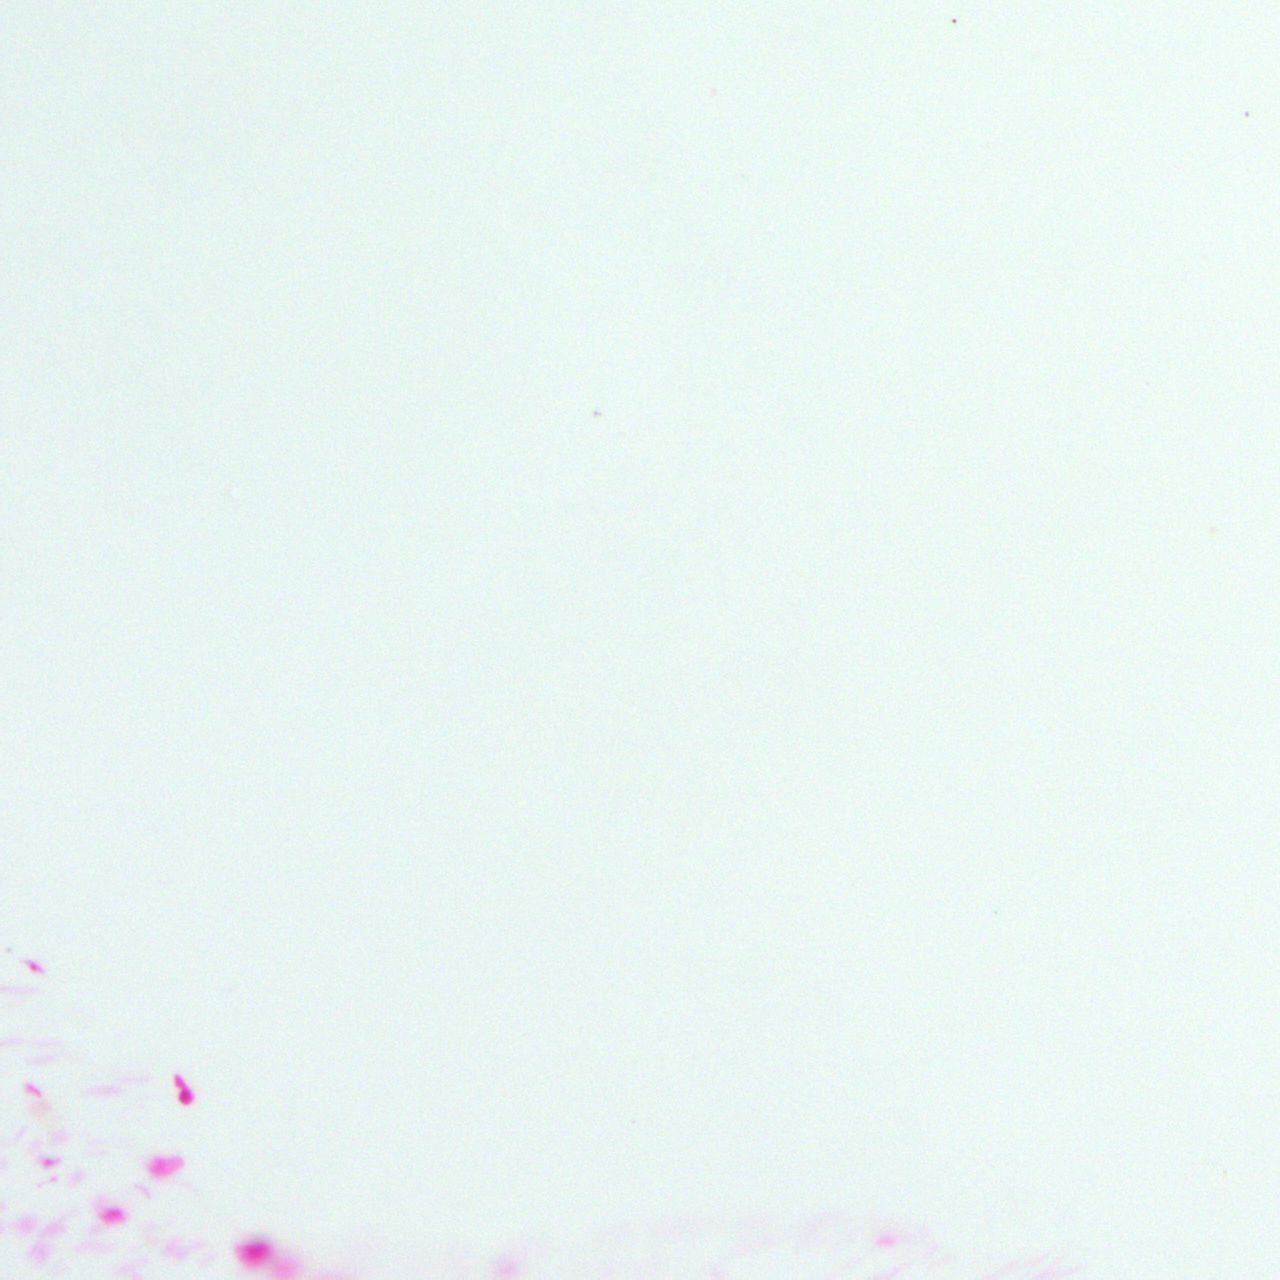dust: (592, 409, 602, 416), (949, 16, 958, 25), (1242, 110, 1250, 118)
nucleus-FG: (171, 1073, 195, 1107), (21, 956, 45, 978), (22, 1082, 45, 1099), (245, 1242, 268, 1257), (152, 1158, 166, 1176), (42, 1157, 61, 1169), (104, 1206, 122, 1218)
